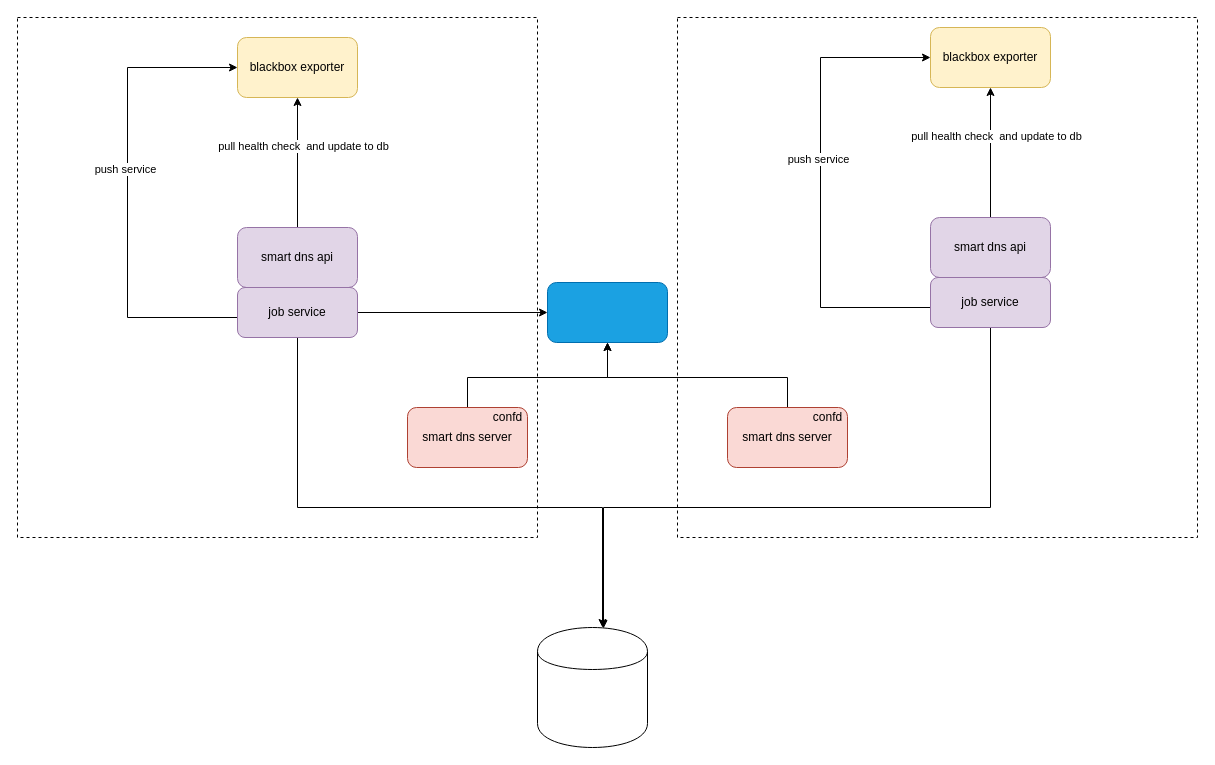
Image size: 1215x765. Some labels were removed from this diagram. Here are the shapes that lost their labels. From the top down, the centre of each, then its label:
At pixel 607 312: "etcd".
At pixel 592 687: "smartdnsdb".
